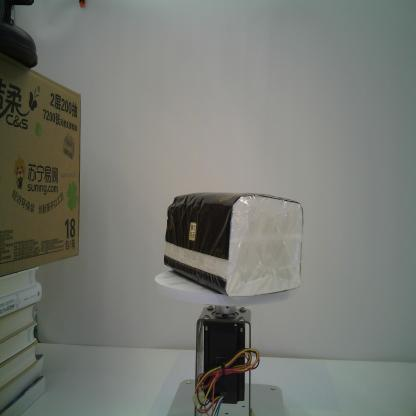Tissue: (162, 192, 304, 298)
